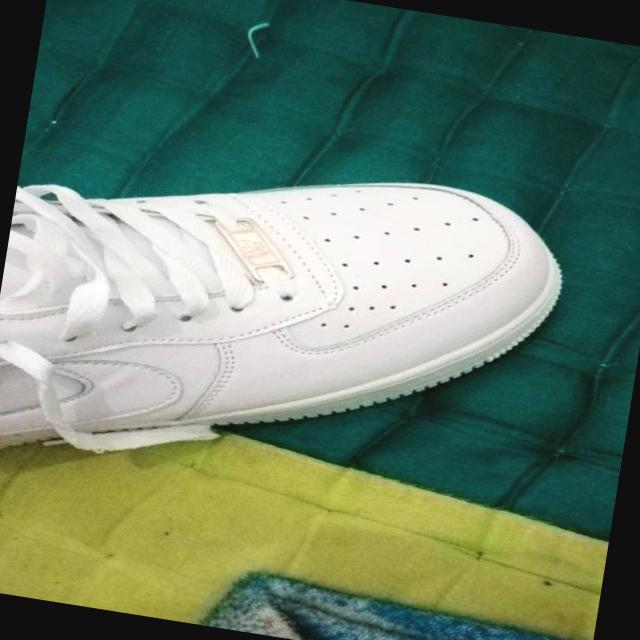nike_fake_airforce: (0, 115, 578, 538)
